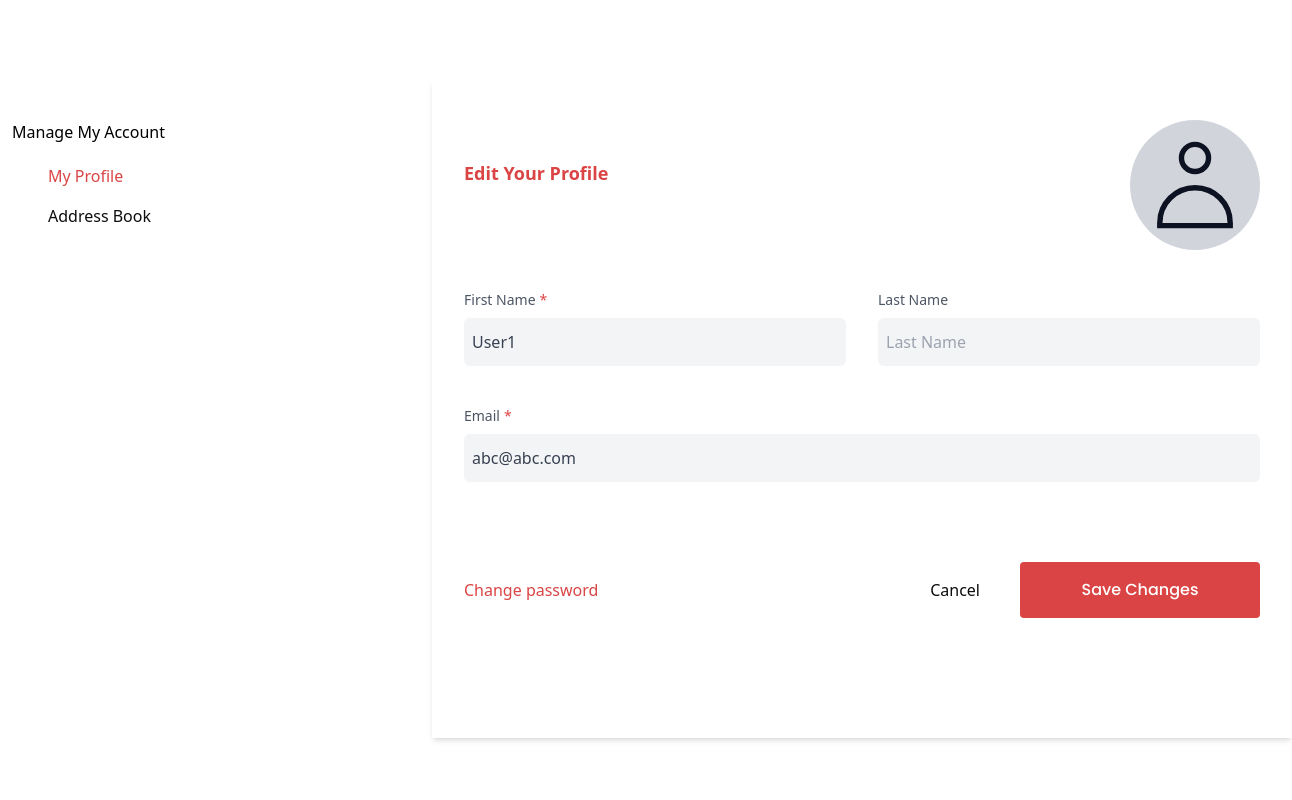
Test: AccountSection Component › Switches to Address Book tab and renders AddressSection
Click the button "Address Book" at (100, 216), box [48,204,151,228]
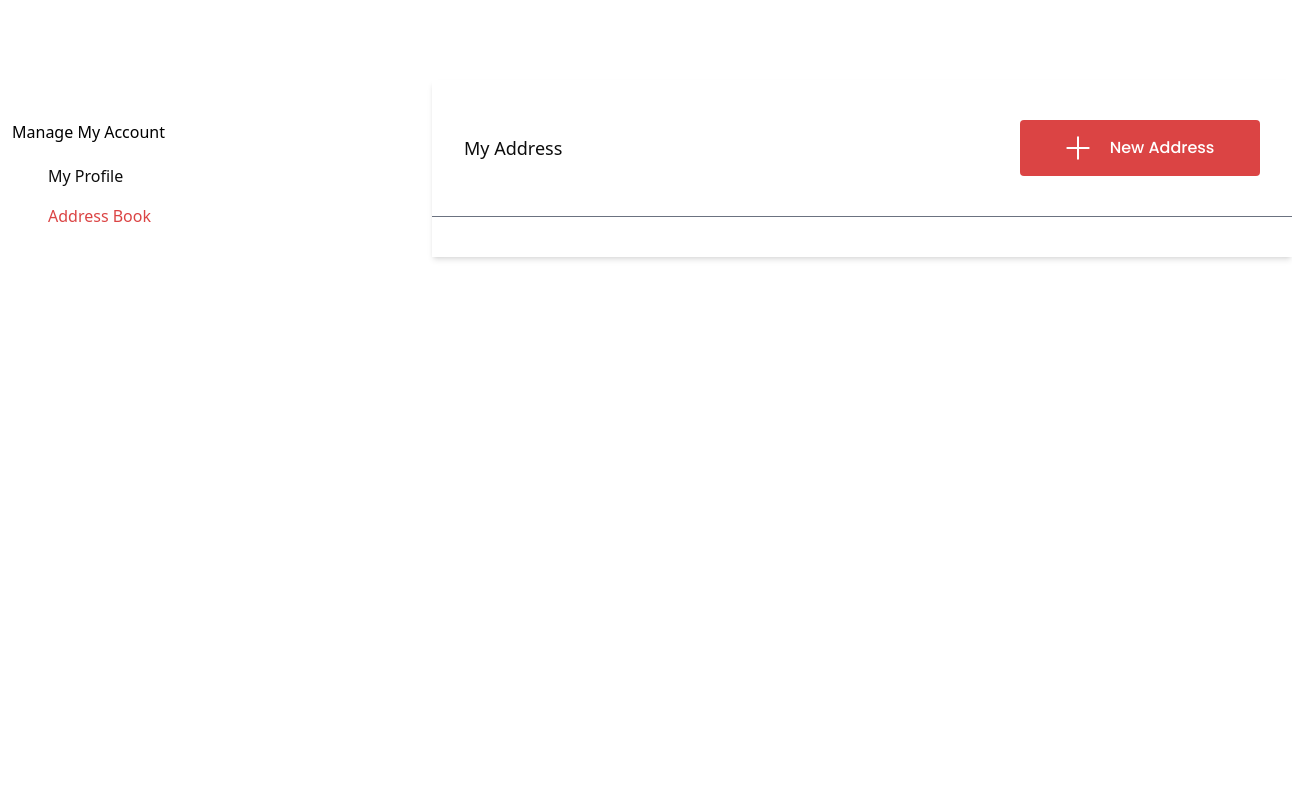
Expected: the heading "My Address" is shown, [464,134,562,162]
